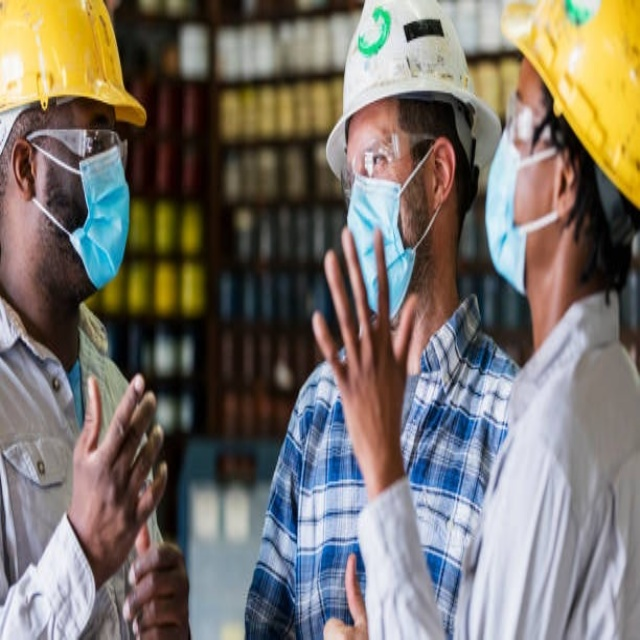Gafas: (18, 116, 131, 172), (341, 126, 449, 176), (501, 83, 558, 145)
Mascara: (340, 172, 431, 315), (46, 141, 137, 282), (481, 114, 549, 290)
Sin_guantes: (310, 225, 416, 478), (62, 362, 166, 572), (123, 520, 193, 640), (323, 547, 370, 639)
